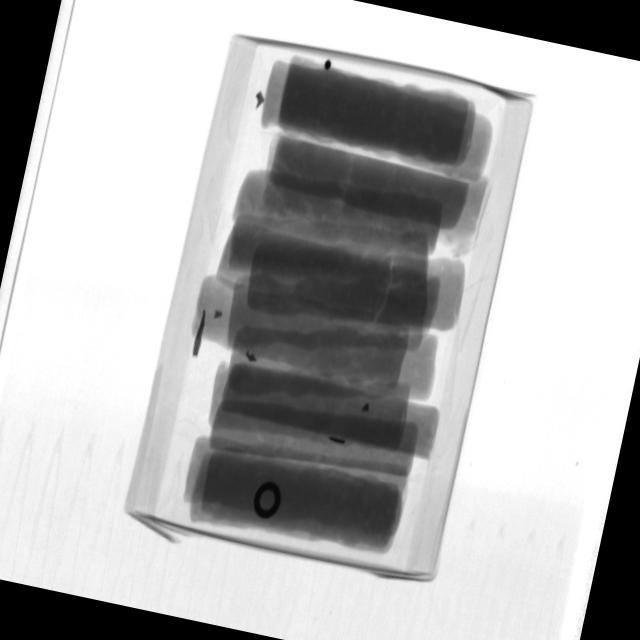ym: (252, 480, 285, 520), (191, 308, 209, 360), (254, 92, 267, 112), (327, 435, 347, 445), (245, 352, 258, 362), (362, 404, 372, 415), (324, 61, 333, 73), (214, 310, 223, 319)
